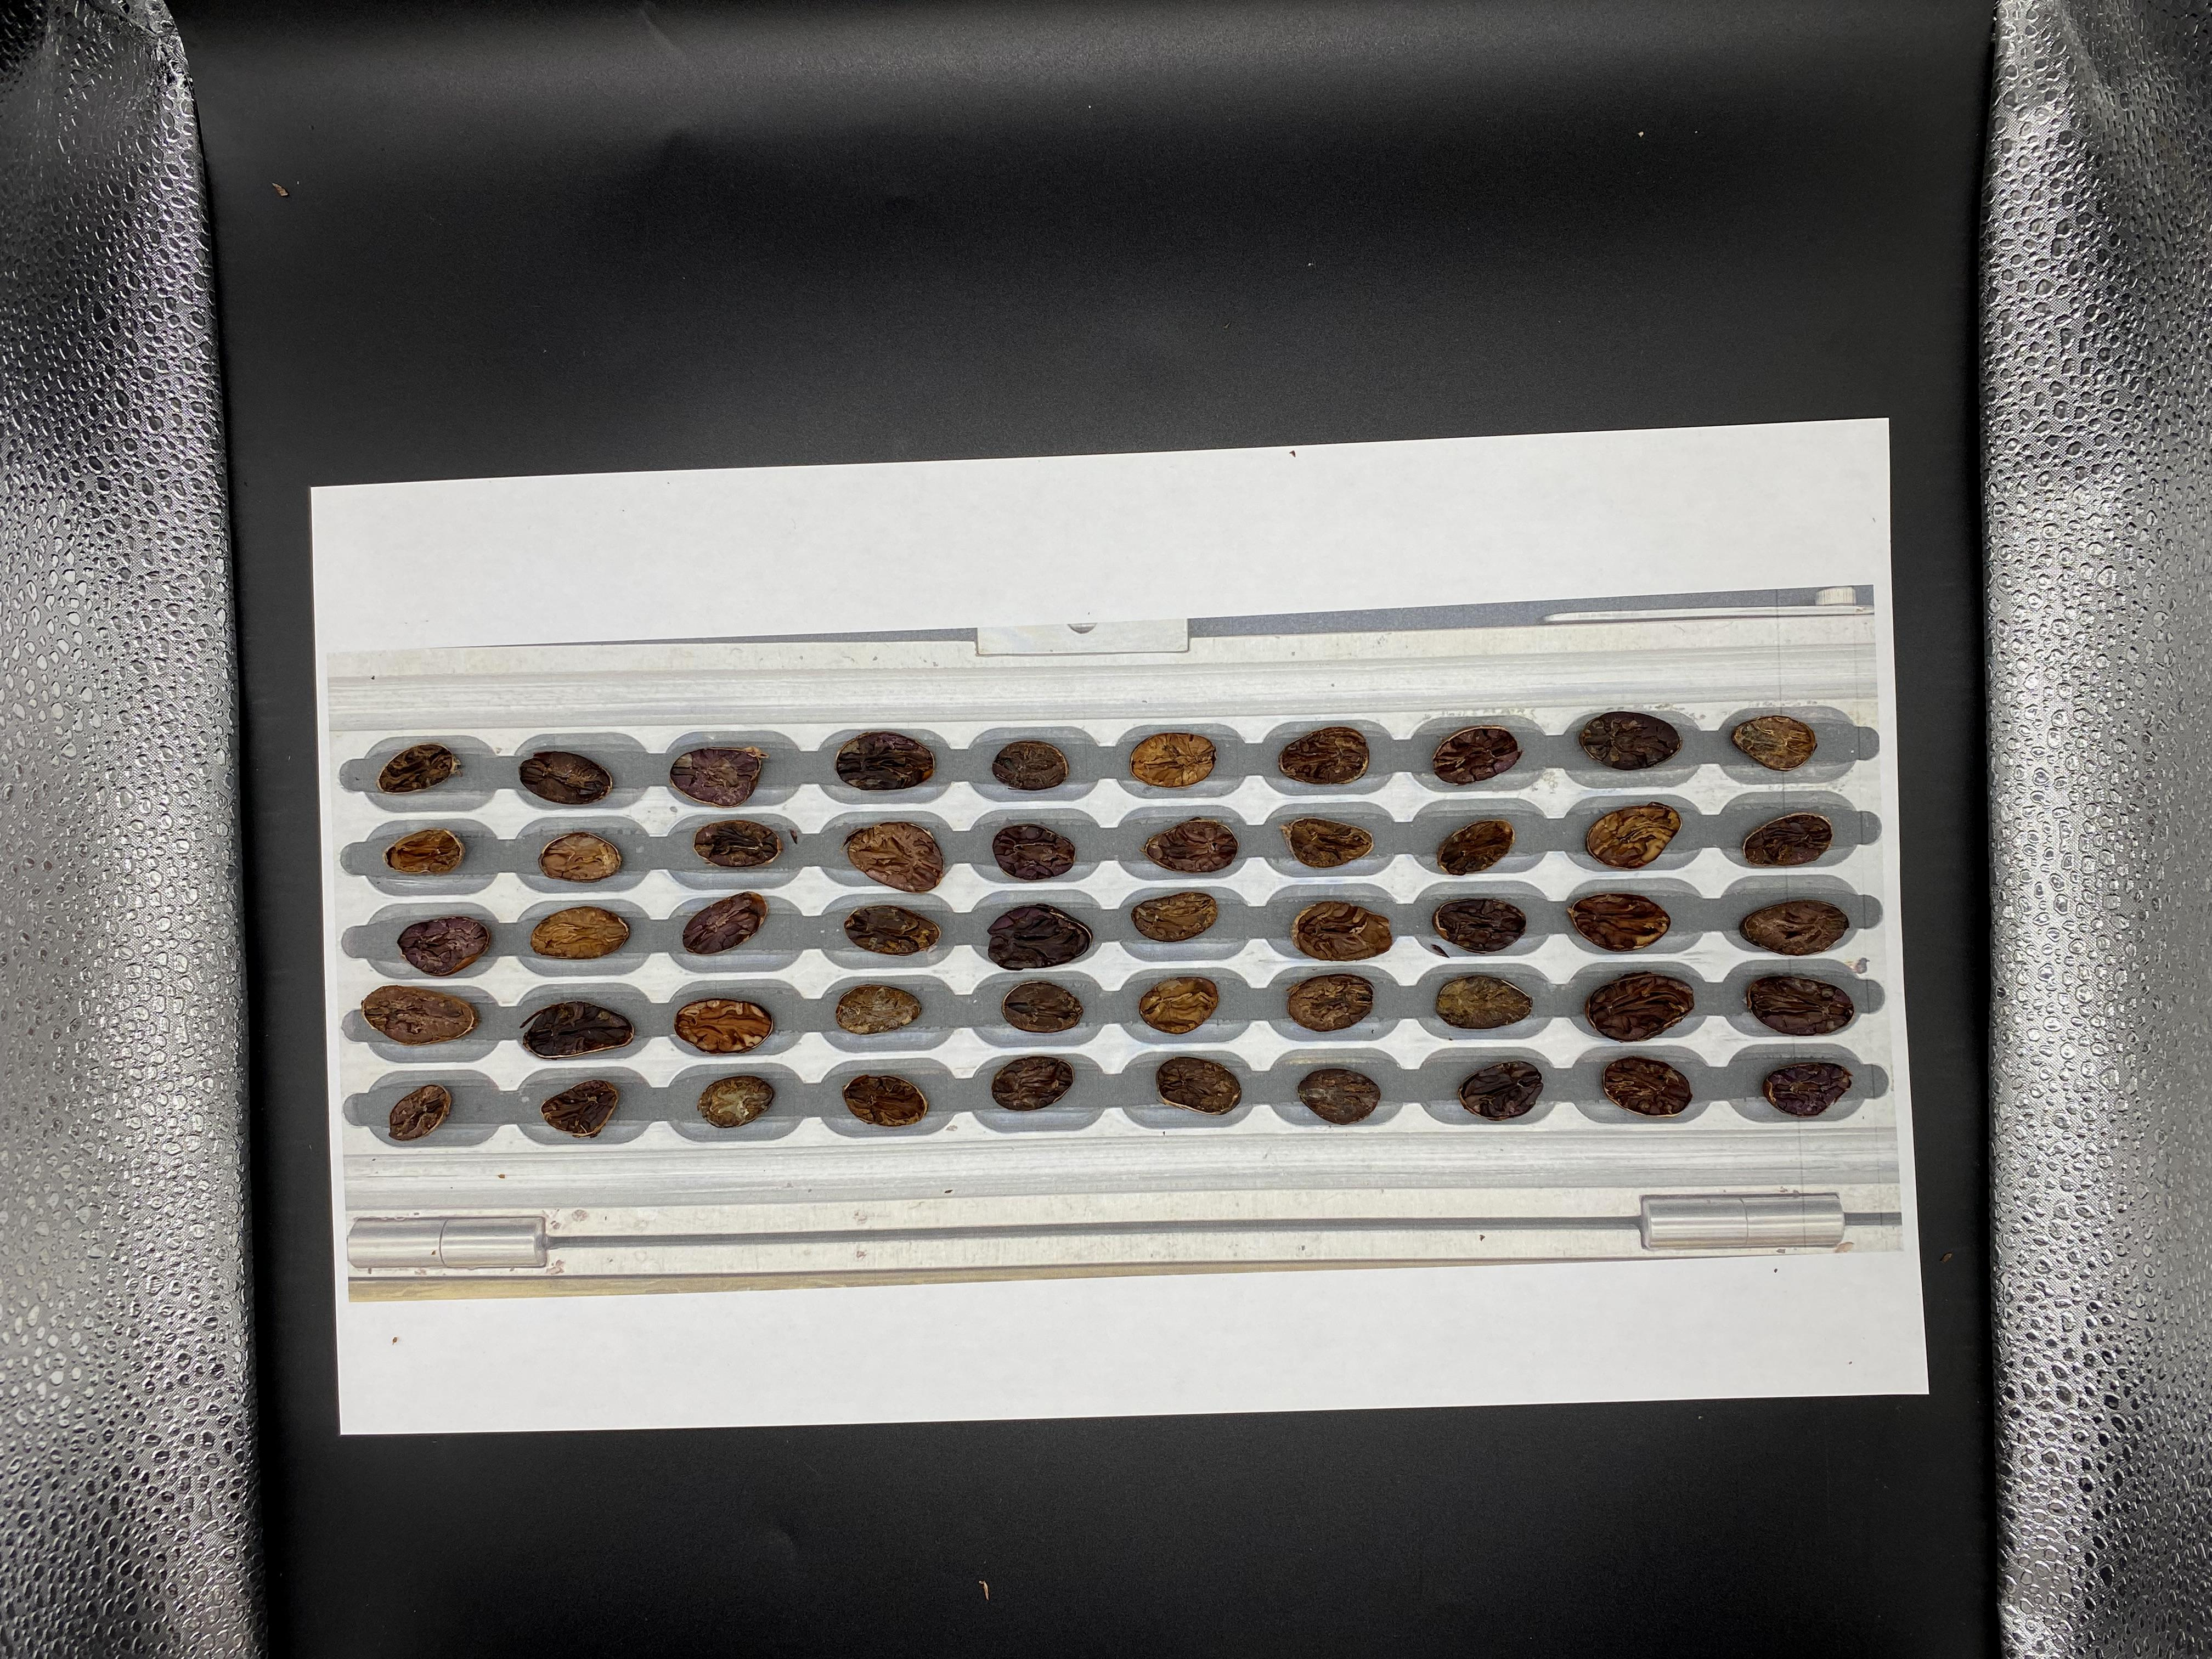Brown - G1: (1892, 490, 1952, 533), (1881, 450, 1944, 484), (1432, 505, 1484, 538), (1280, 418, 1329, 450)
Brown - G2: (1514, 411, 1573, 457), (1742, 455, 1801, 493), (1735, 366, 1791, 406), (1892, 406, 1947, 444), (1811, 411, 1867, 450), (1898, 535, 1952, 573), (1665, 413, 1723, 448), (1663, 491, 1714, 530), (1737, 411, 1792, 444), (1514, 544, 1564, 579)
Brown - G3: (1270, 497, 1336, 535), (1970, 453, 2034, 490), (1353, 455, 1414, 491), (1737, 491, 1794, 528), (1658, 450, 1714, 484), (1672, 533, 1723, 572), (1658, 369, 1712, 403), (1595, 495, 1642, 530), (1280, 545, 1322, 584), (1360, 420, 1409, 450)
Insect-damaged: (1815, 491, 1871, 528)
Mouldy: (1745, 538, 1794, 577), (1510, 497, 1561, 532), (1590, 371, 1637, 408), (1966, 361, 2017, 392), (1442, 544, 1487, 579)
Partly Purple - G1: (1587, 457, 1648, 497), (1813, 366, 1867, 403)
Partly Purple - G2: (1352, 504, 1414, 542), (1510, 369, 1568, 408), (1973, 493, 2036, 528), (1813, 451, 1869, 486), (1588, 415, 1639, 451), (1439, 413, 1489, 446)
Partly Purple - G3: (1433, 450, 1480, 490)
Total Purple - G2: (1982, 535, 2033, 573)
Total Purple - G3: (1425, 369, 1482, 413), (1287, 464, 1341, 498)
Very Dark Brown - G1: (1277, 375, 1327, 408)
Very Dark Brown - G2: (1360, 545, 1409, 584), (1970, 410, 2026, 443), (1588, 535, 1637, 570), (1827, 538, 1874, 573)
Very Dark Brown - G3: (1888, 357, 1947, 396), (1348, 376, 1404, 416), (1515, 458, 1573, 488)
